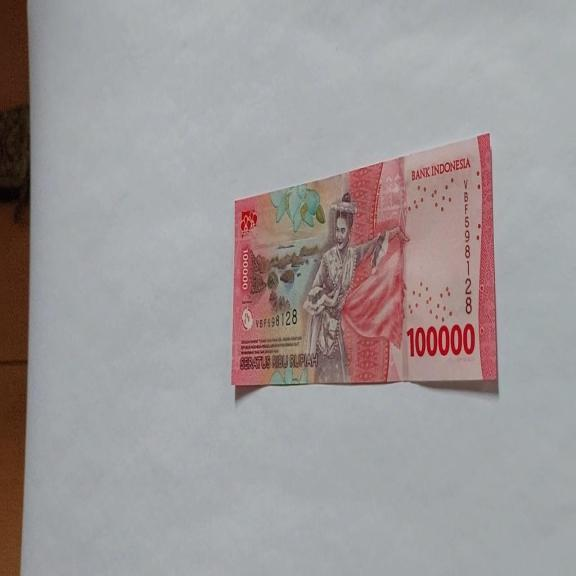Kertas: (406, 321, 476, 358)
